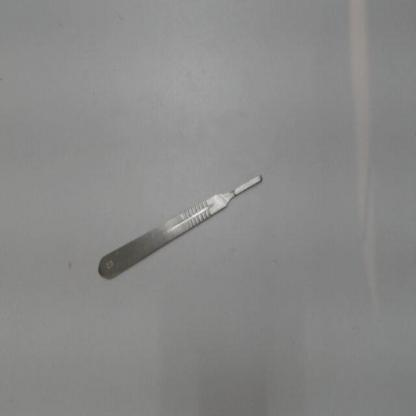No.4 BP Handle: (86, 155, 270, 296)
